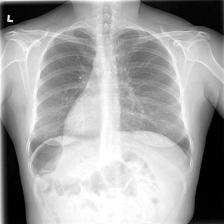normal: (26, 25, 196, 175)
